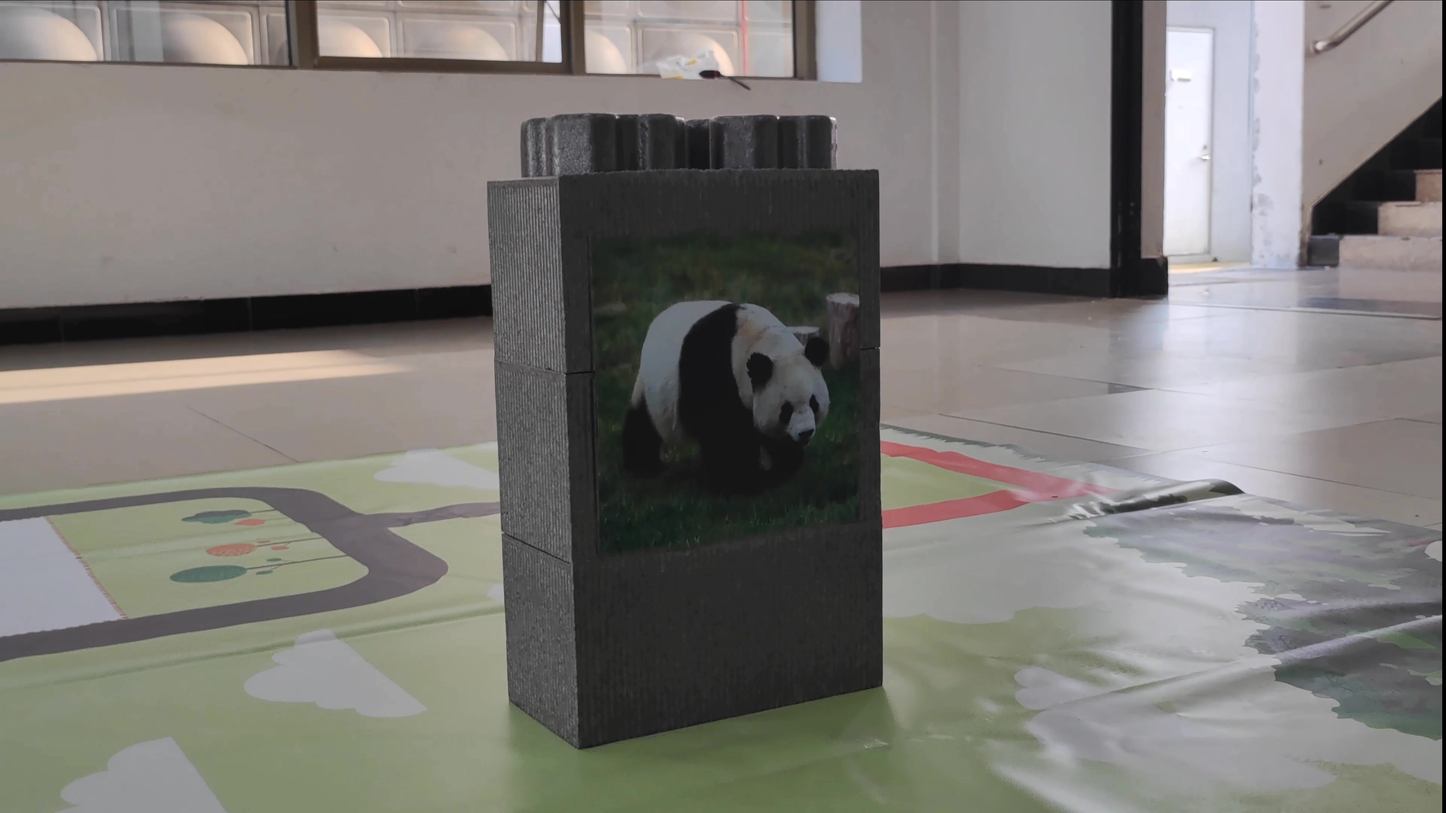panda: (616, 280, 885, 510)
